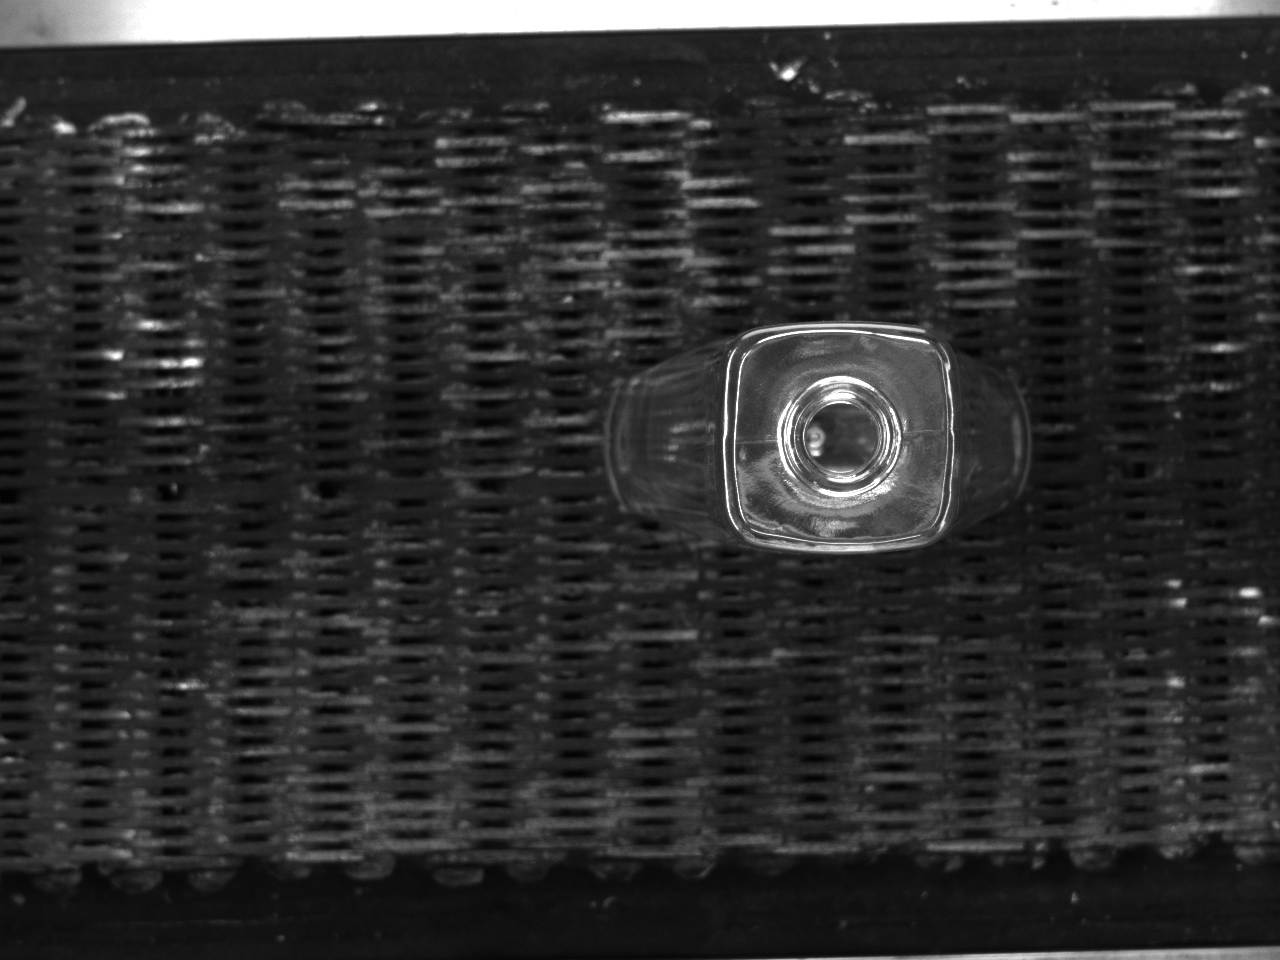bottleneck: (782, 376, 901, 493)
